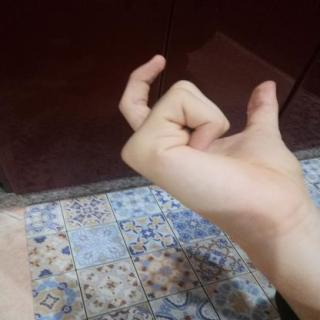NOON: (102, 51, 316, 244)
